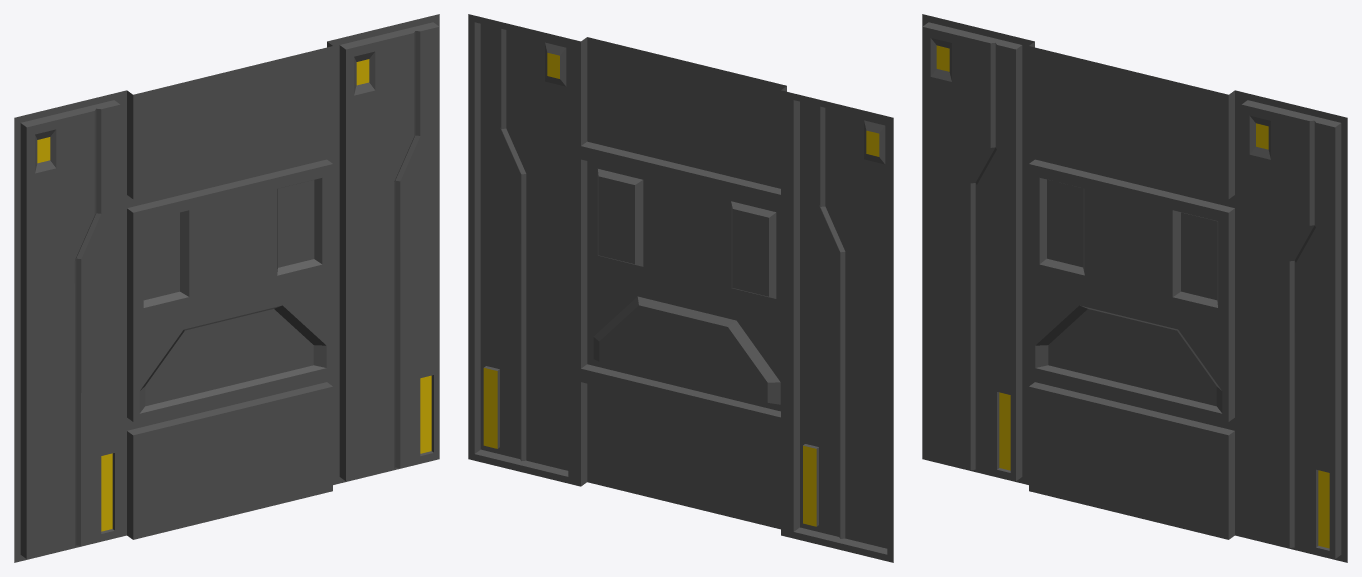
The model's file is SM_SM_Wall_04.fbx.
3 views of the same model, side by side, from view 1: azimuth 30°, elevation 25°; view 2: azimuth 150°, elevation 25°; view 3: azimuth 330°, elevation 25° (orthographic).
Visible parts, largest first — view 1: SM_Wall_04; view 2: SM_Wall_04; view 3: SM_Wall_04.
Boxes of the visible parts, <box> form: SM_Wall_04: <box>14,14,439,562</box>; SM_Wall_04: <box>468,14,893,562</box>; SM_Wall_04: <box>922,14,1347,562</box>.
Size of the model in its own units: 200 by 200 by 5.
